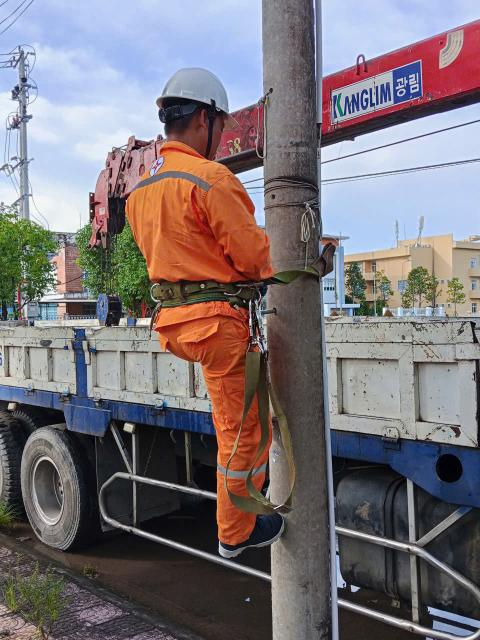harness: (130, 268, 259, 320)
helmet: (142, 56, 248, 126)
shoes: (193, 504, 282, 561)
